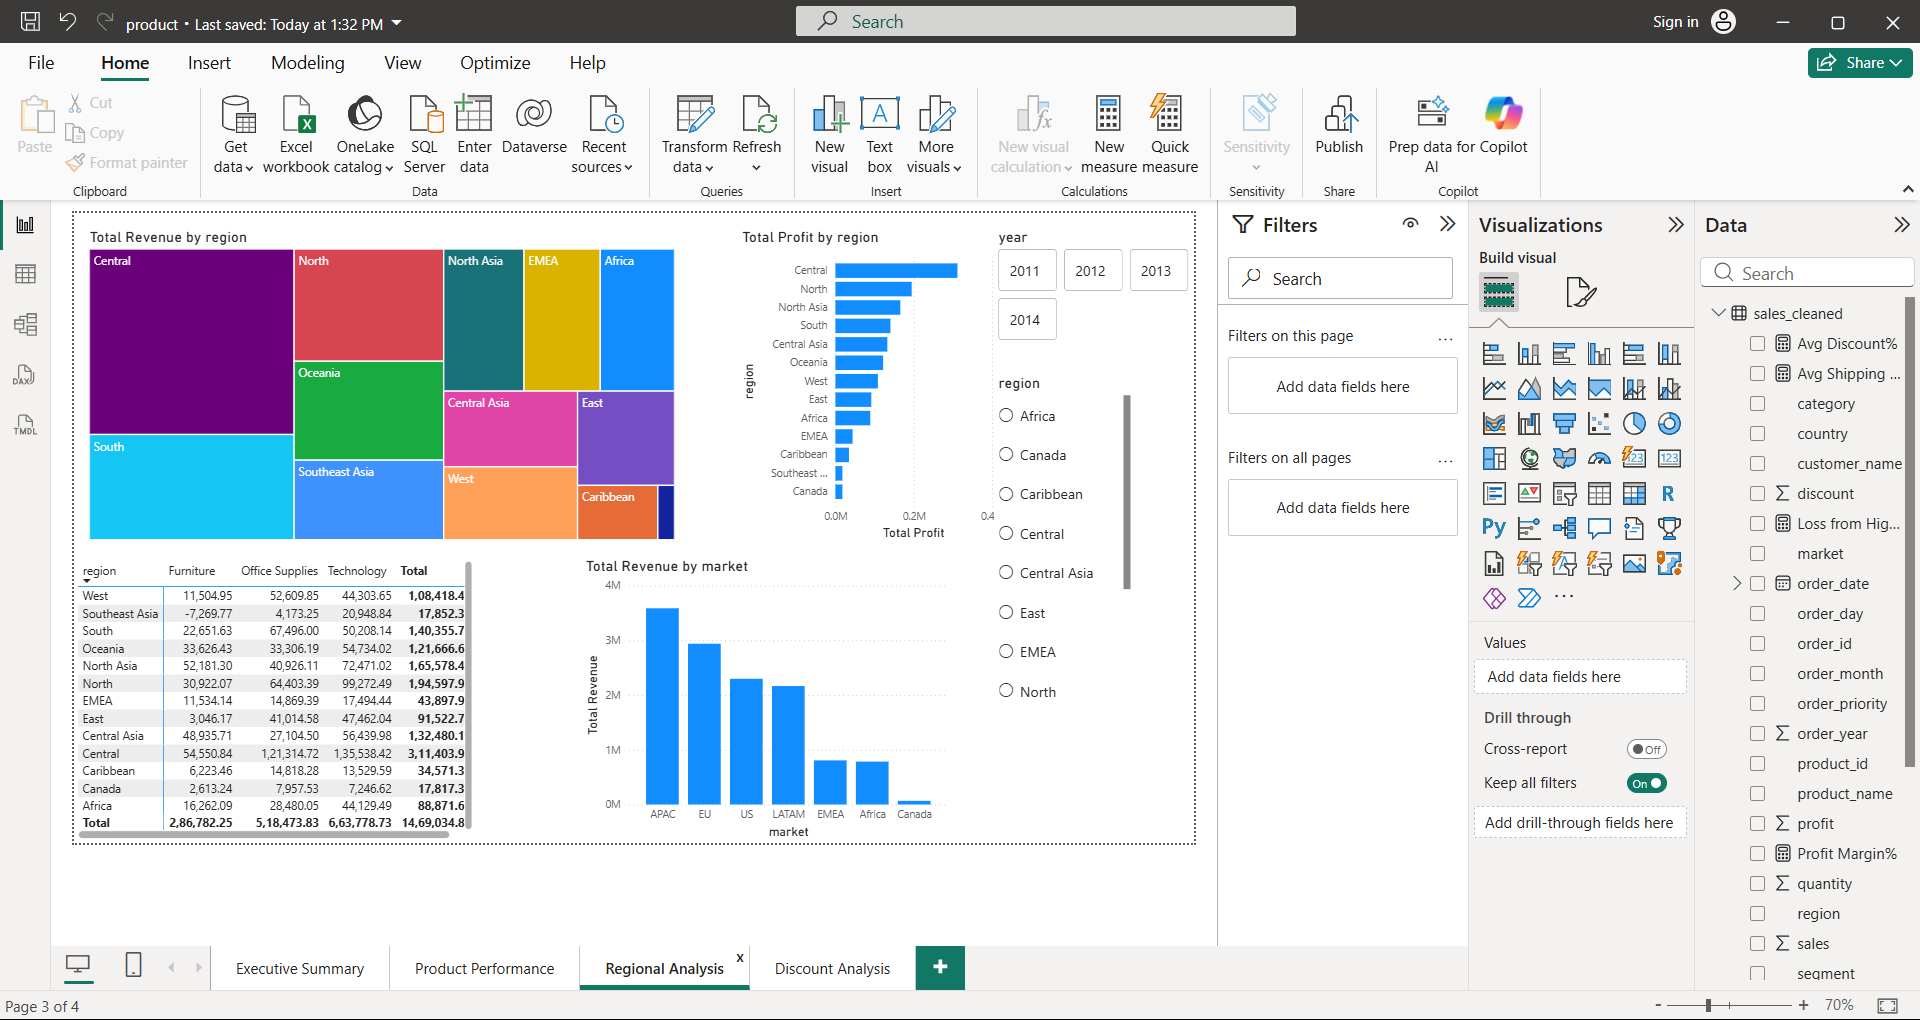

The page's visual inventory and layout, read from the dashboard file:
{"tool":"powerbi","page":{"name":"Regional Analysis","canvas":[1280,720],"ordinal":2},"visuals":[{"type":"clusteredBarChart","fields":{"Category":["sales_cleaned.region"],"Y":["sales_cleaned.Total Profit"]},"box":[758.6,17.1,310,361.4],"z":0},{"type":"pivotTable","fields":{"Rows":["sales_cleaned.region"],"Columns":["sales_cleaned.category"],"Values":["sales_cleaned.Total Profit"]},"box":[0,392.9,460,327.1],"z":1},{"type":"clusteredColumnChart","fields":{"Category":["sales_cleaned.market"],"Y":["sales_cleaned.Total Revenue"]},"box":[580,392.9,424.3,327.1],"z":2},{"type":"advancedSlicerVisual","fields":{"Values":["sales_cleaned.year"]},"box":[1051.4,17.1,228.6,134.3],"z":3},{"type":"listSlicer","fields":{"Values":["sales_cleaned.region"]},"box":[1051.4,184.3,161.4,397.1],"z":4},{"type":"treemap","fields":{"Group":["sales_cleaned.region"],"Values":["sales_cleaned.Total Revenue"]},"box":[12.9,17.1,678.6,361.4],"z":5}]}

Visuals, with their boxes on the page's 1280x720 design canvas (x1, y1, x2, y2). These are canvas units, not pixel positions in the 1920x1020 screenshot, which may show the page scaled, cropped or inside an application window:
clusteredBarChart - sales_cleaned.region x sales_cleaned.Total Profit: 759 17 1069 378
pivotTable - sales_cleaned.region x sales_cleaned.category: 0 393 460 720
clusteredColumnChart - sales_cleaned.market x sales_cleaned.Total Revenue: 580 393 1004 720
advancedSlicerVisual - sales_cleaned.year: 1051 17 1280 151
listSlicer - sales_cleaned.region: 1051 184 1213 581
treemap - sales_cleaned.region x sales_cleaned.Total Revenue: 13 17 692 378
